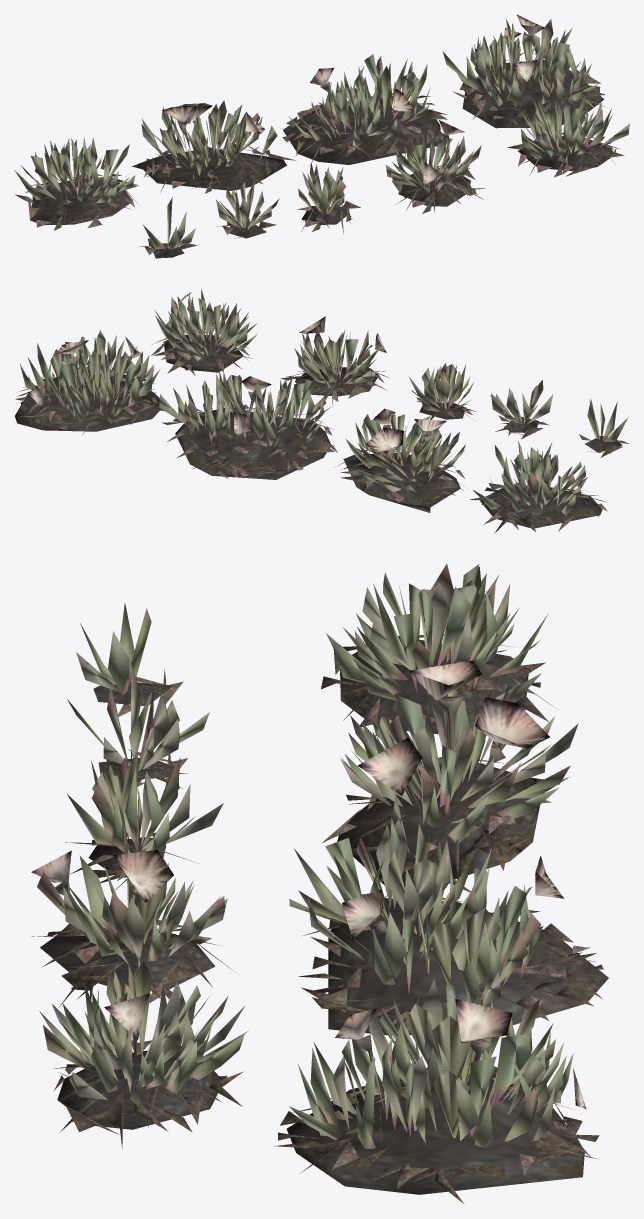
File: succulent-desert.lite.3b3023bb.glb
The picture shows the model from 3 angles, top to bottom: view 1: azimuth 30°, elevation 25°; view 2: azimuth 150°, elevation 25°; view 3: azimuth 270°, elevation 25°; orthographic projection. The views are drawn at different scales.
Parts seen in each view (by area): view 1: model; view 2: model; view 3: model.
Part boxes in pixels (x1,y1,x2,y2): model: (14,14,629,259); model: (15,289,628,533); model: (31,563,608,1204).
Bounding box in the file's own units: 2.16 × 0.2572 × 0.9586.
2 materials, 2 textured.
